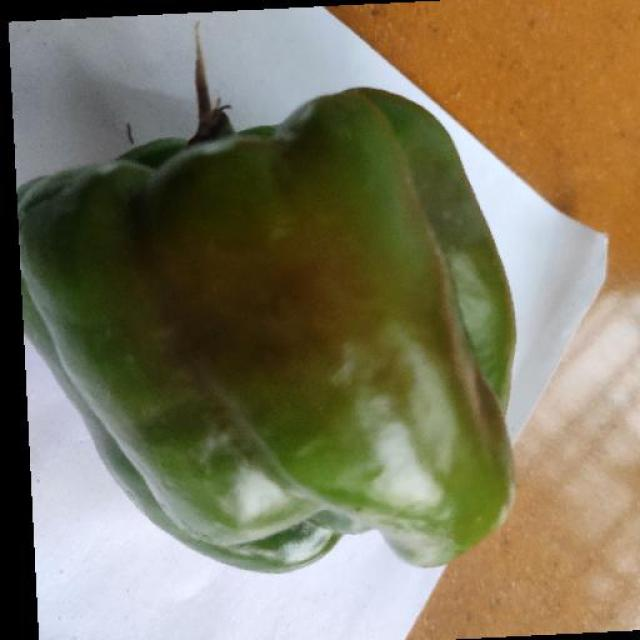Stale_Capsicum: (16, 122, 496, 552)
